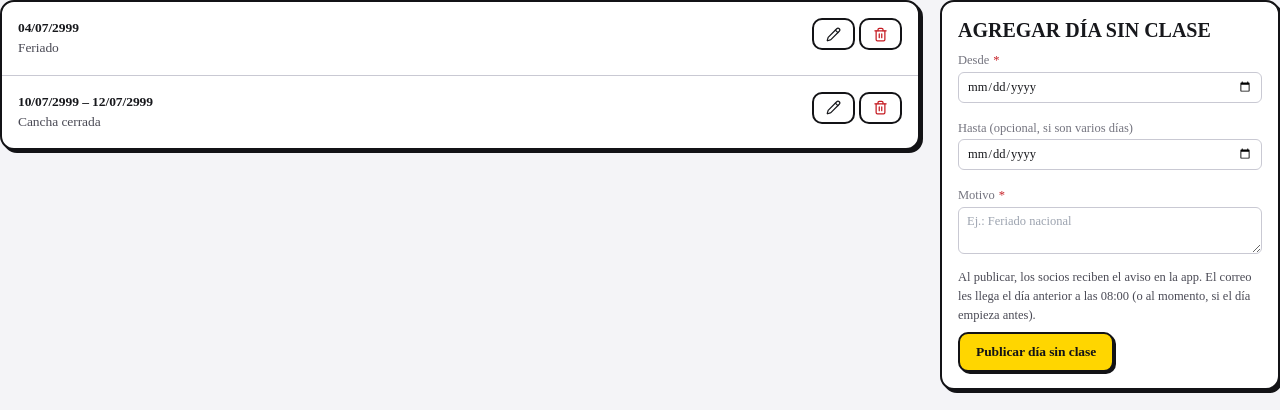
Scenario: DiasSinClasePage (admin) › warns that the day was saved but the notice failed, and retries it
The width and height of the screenshot is (1280, 410).
Expected: the text "Feriado" is shown, [18,40,59,55]
Type "2999-08-01" into the date field labelled "Desde*" at (1110, 87), box [958,72,1262,103]
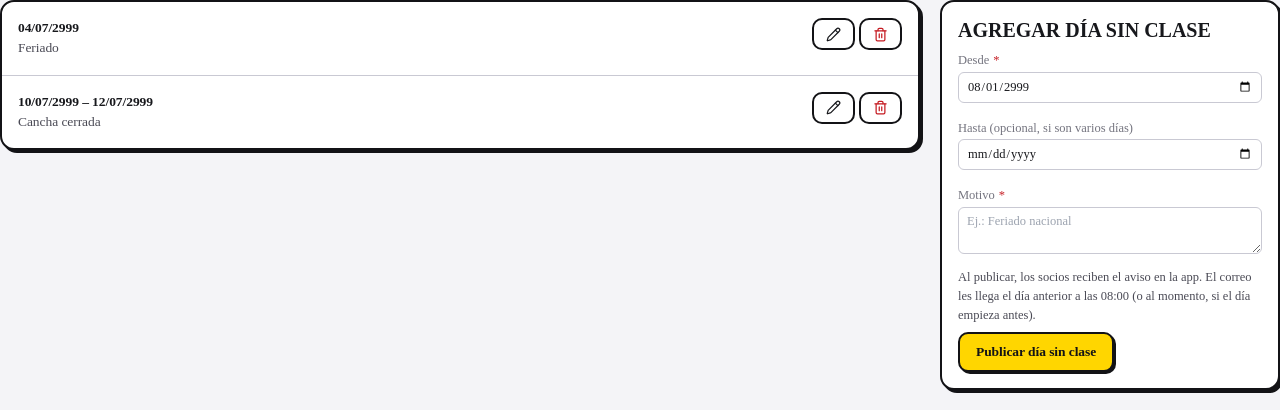
Type "Evento" into the text box labelled "Motivo*" at (1110, 231), box [958,207,1262,254]
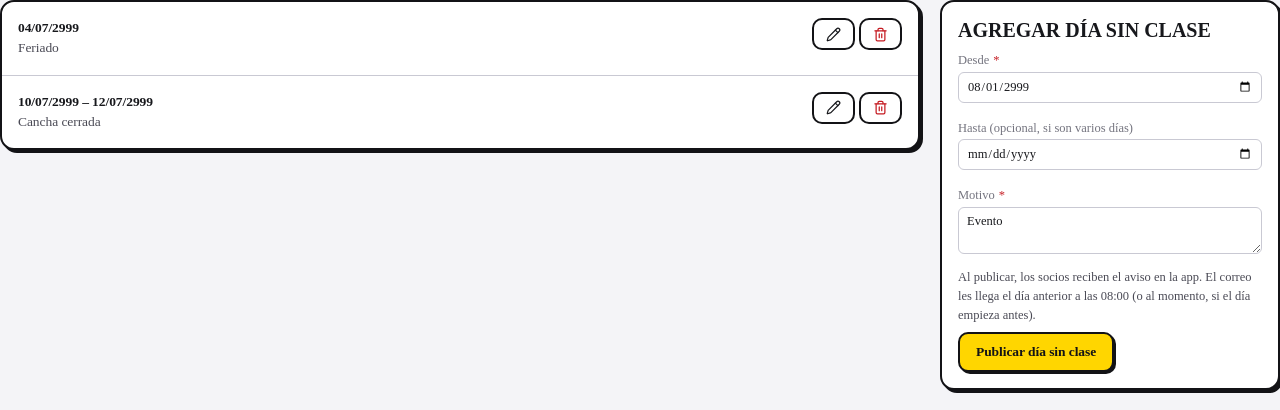
Click the button "Publicar día sin clase" at (1036, 352), box [958,332,1114,372]
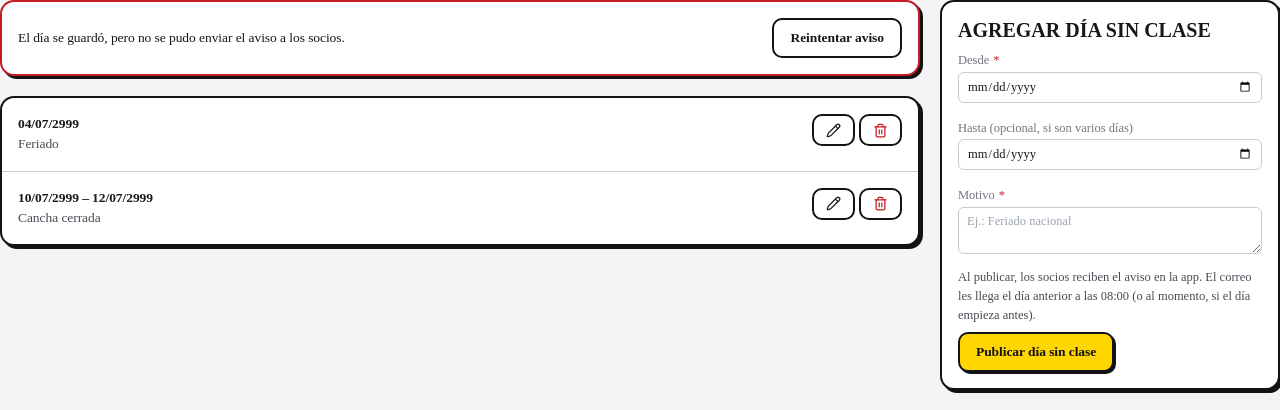
Now the text "El día se guardó, pero no se pudo enviar el aviso a los socios." is shown, box [18,30,345,45]
Click the button "Reintentar aviso" at (837, 38), box [772,18,902,58]
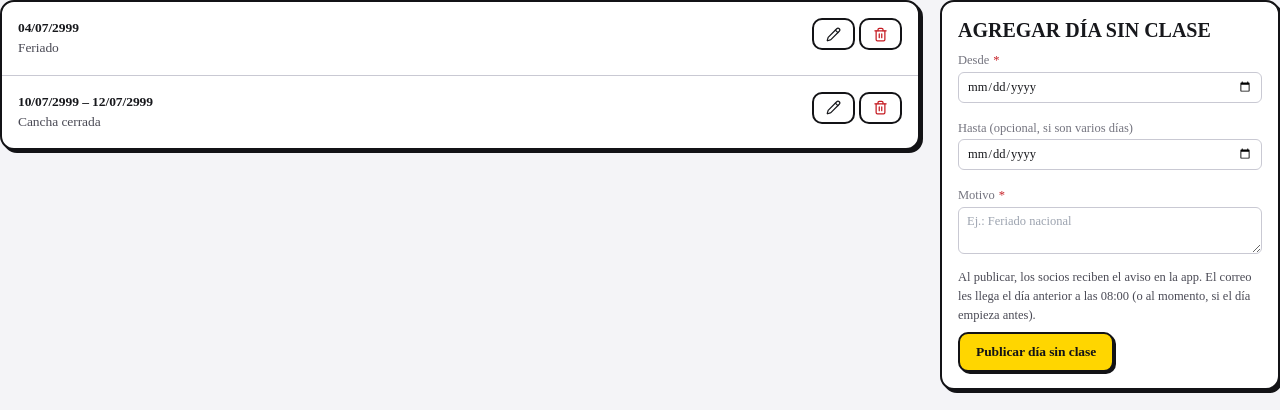
Now the text "no se pudo enviar el aviso" is gone
